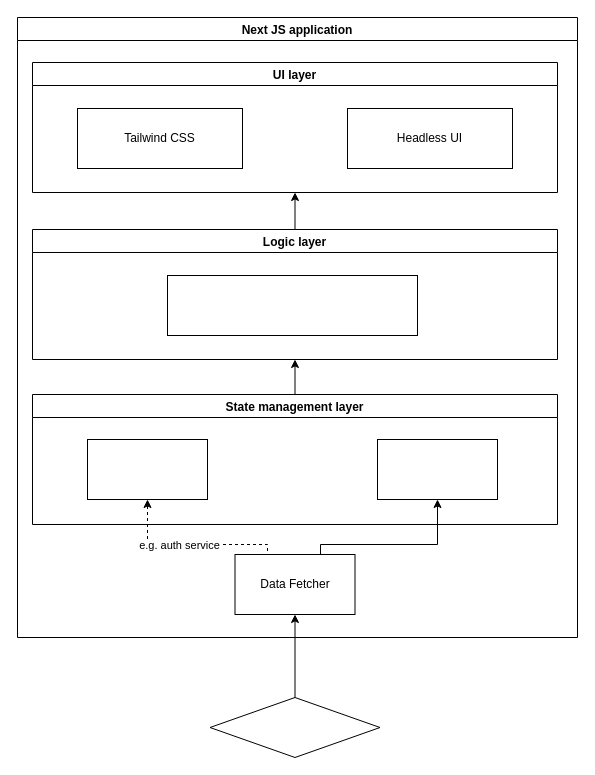
This 595x775 diagram has some shape labels left out. The shapes that lost their labels are listed below. From the top down, each one's centre as x and y in pixels, then its label:
At pixel 292 305: "Hooks".
At pixel 147 469: "React Context API".
At pixel 437 469: "Data Caching (SWR)".
At pixel 294 727: "API server".
